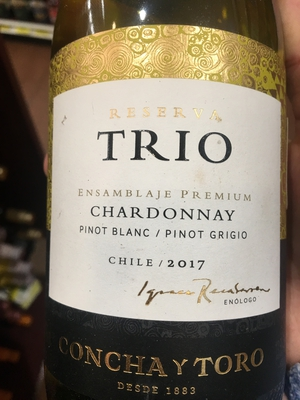trio chardonnay: (37, 23, 292, 400)
